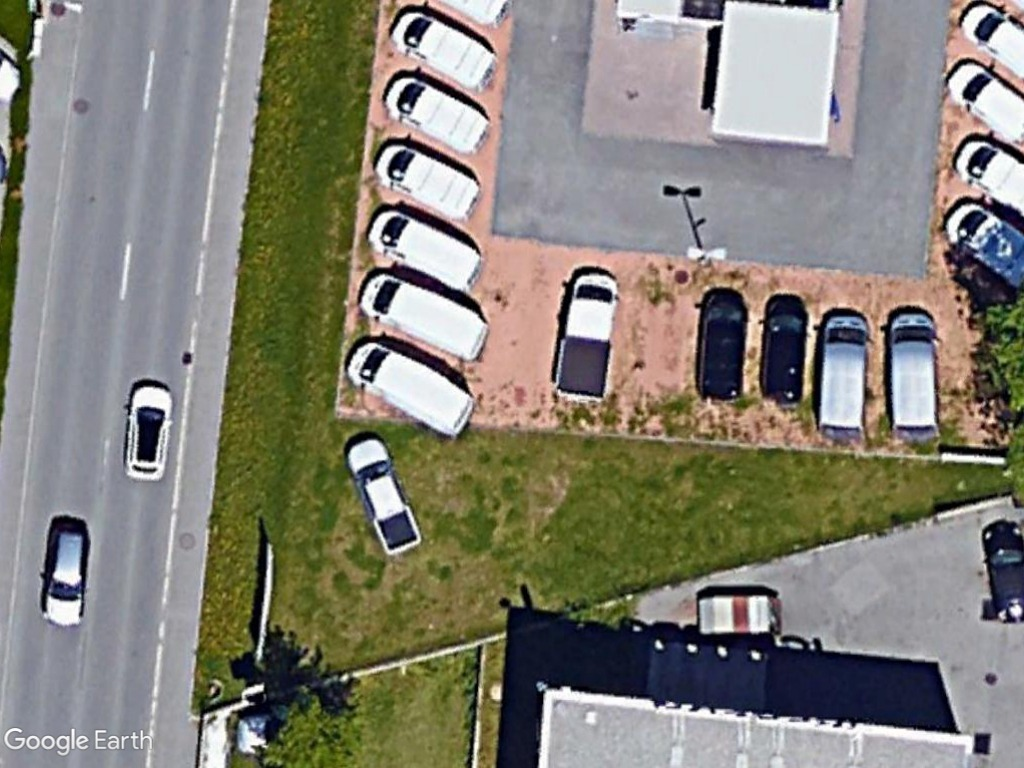car: (120, 377, 176, 487), (40, 523, 94, 629)
others: (338, 430, 422, 556), (547, 269, 623, 404)
van: (344, 339, 481, 438), (357, 266, 487, 364), (367, 202, 489, 295), (385, 10, 499, 95), (376, 137, 484, 222), (382, 73, 491, 157), (809, 310, 872, 439), (882, 305, 940, 437), (694, 284, 755, 408), (756, 285, 812, 408)
